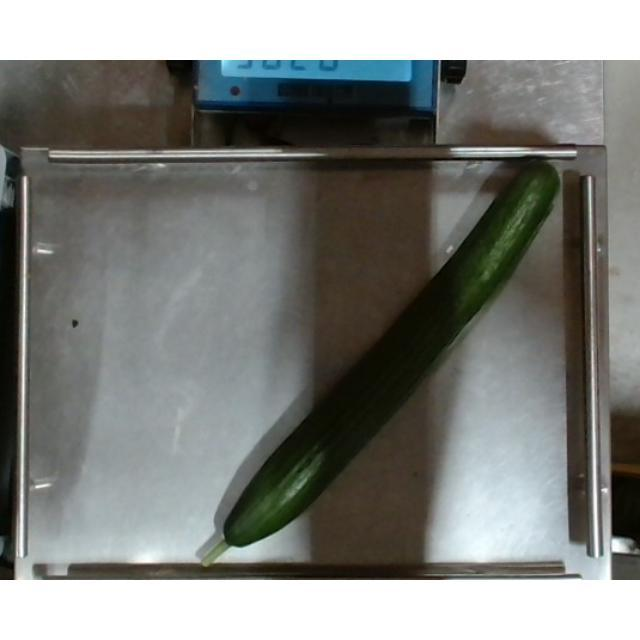cucumber: (203, 160, 559, 570)
